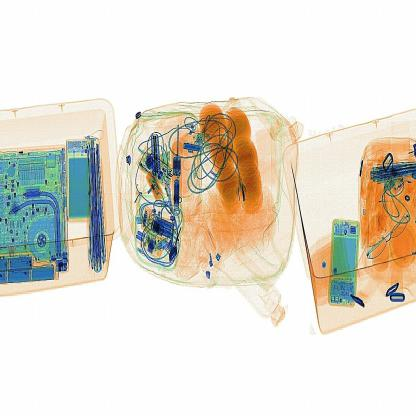scissors: (144, 130, 167, 181)
